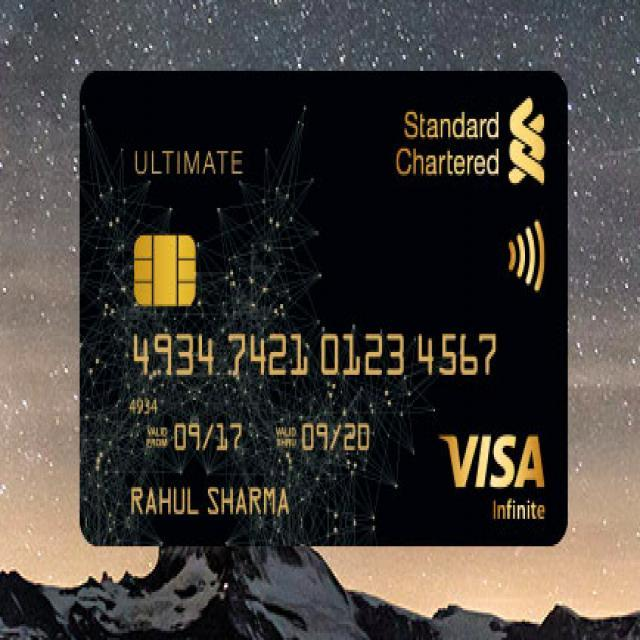Standard Chartered: (392, 94, 546, 184)
